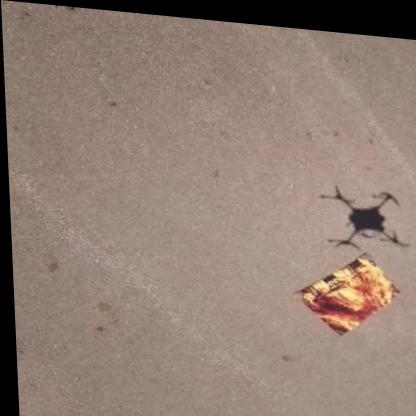fire-poster: (287, 239, 401, 335)
